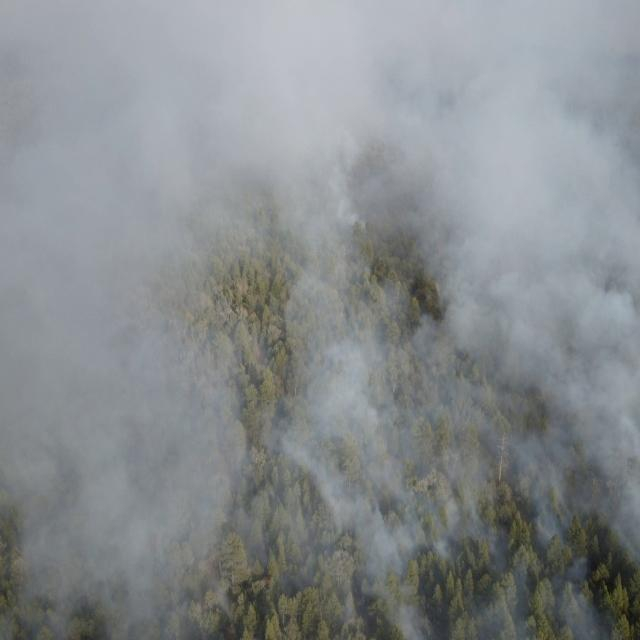smoke: (0, 0, 640, 640), (264, 577, 272, 584)
